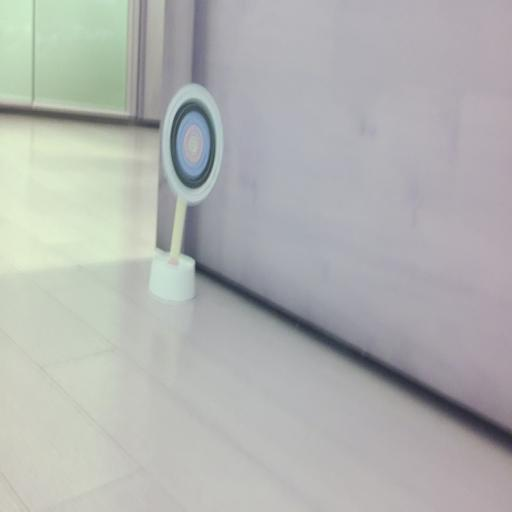target: (162, 84, 223, 206)
